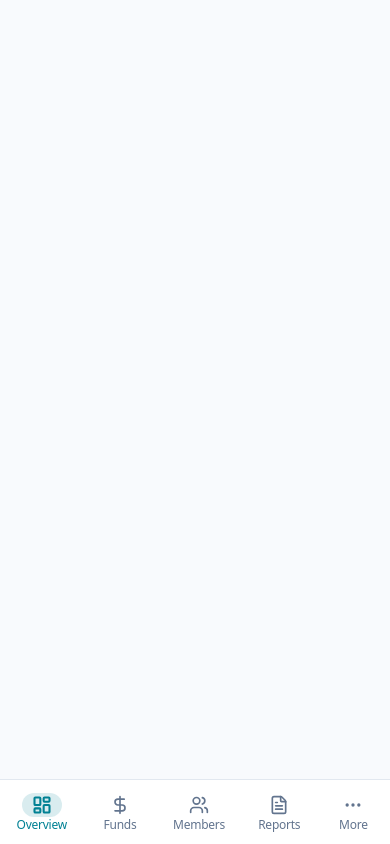
Test: AdminBottomNav › lists Receipts under More
Click the button "More" at (353, 812), box [325,787,381,837]
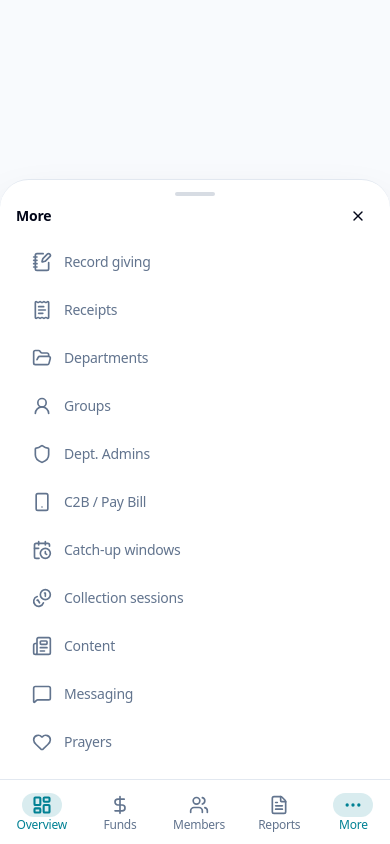
Now the button "Receipts" is shown, box [16,288,374,332]
